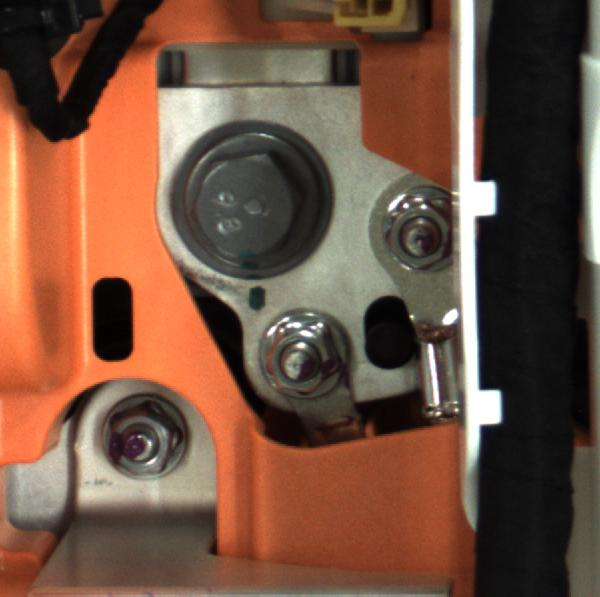nut_b: (168, 142, 339, 274)
screw_s: (100, 395, 184, 484), (268, 318, 353, 400), (386, 192, 456, 285)
